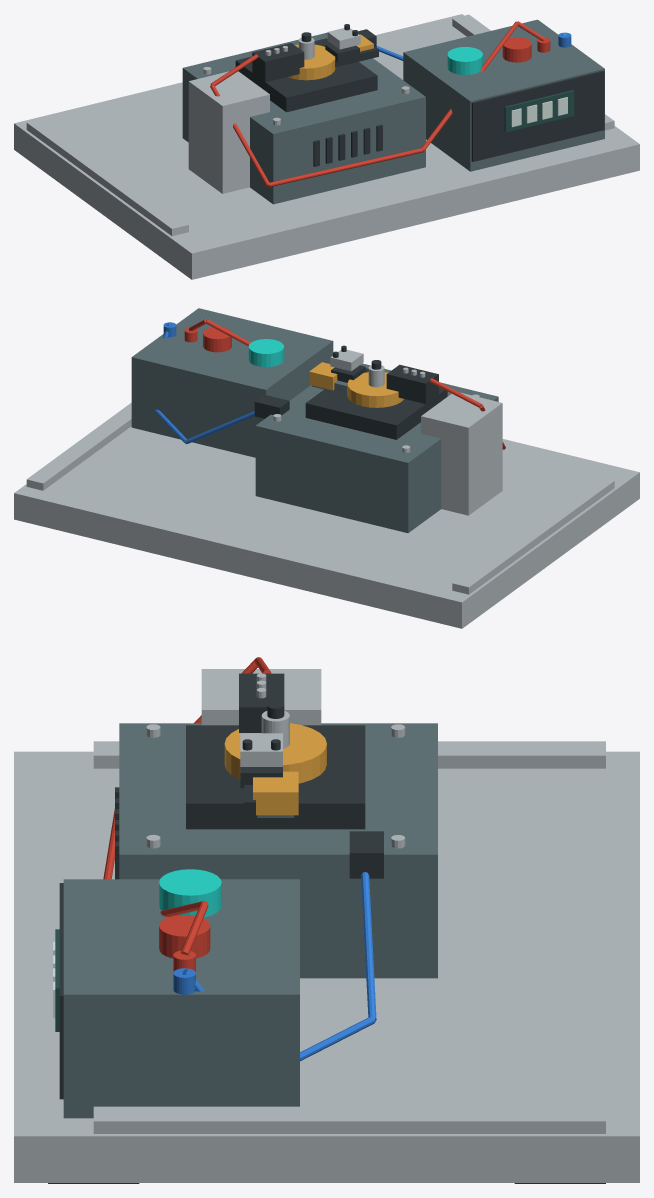
The model's file is cyclic-bend.glb.
3 renders of one model, top to bottom at view 1: azimuth 30°, elevation 25°; view 2: azimuth 150°, elevation 25°; view 3: azimuth 270°, elevation 25°, orthographic. The views are drawn at different scales.
Parts seen in each view (by area): view 1: baseplate, motor_enclosure, continuity_controller, grip_support, controller_face, side_mount_rail, gearhead, fixed_grip, cycle_counter, encoder_collar, jog_input, fixed_lead_2 (+6 smaller); view 2: baseplate, motor_enclosure, continuity_controller, grip_support, gearhead, side_mount_rail, side_mount_rail.001, fixed_grip, encoder_collar, jog_input, lead_strain_relief, stop_visual (+2 smaller); view 3: baseplate, continuity_controller, motor_enclosure, side_mount_rail.001, gearhead, side_mount_rail, grip_support, encoder_collar, jog_input, fixed_grip, load_sensor_proxy, stop_visual (+4 smaller).
Boxes of the visible parts, <box> form: baseplate: <box>14,14,639,279</box>; motor_enclosure: <box>182,32,425,204</box>; continuity_controller: <box>403,19,604,171</box>; grip_support: <box>188,71,269,193</box>; controller_face: <box>471,70,604,161</box>; side_mount_rail: <box>26,118,188,236</box>; gearhead: <box>235,38,377,112</box>; fixed_grip: <box>252,43,304,82</box>; cycle_counter: <box>504,90,574,132</box>; encoder_collar: <box>287,44,335,80</box>; jog_input: <box>447,47,482,74</box>; fixed_lead_2: <box>268,148,423,187</box>; baseplate: <box>14,426,639,628</box>; motor_enclosure: <box>255,363,498,532</box>; continuity_controller: <box>131,308,333,457</box>; grip_support: <box>421,392,502,515</box>; gearhead: <box>305,368,447,439</box>; side_mount_rail: <box>452,477,614,594</box>; side_mount_rail.001: <box>26,402,131,490</box>; fixed_grip: <box>386,364,438,403</box>; encoder_collar: <box>347,372,403,407</box>; jog_input: <box>248,339,284,367</box>; lead_strain_relief: <box>254,394,289,418</box>; stop_visual: <box>203,327,231,352</box>; baseplate: <box>14,751,639,1182</box>; continuity_controller: <box>63,879,299,1118</box>; motor_enclosure: <box>119,723,437,978</box>; side_mount_rail.001: <box>93,1106,605,1133</box>; gearhead: <box>186,725,365,829</box>; side_mount_rail: <box>93,741,605,768</box>; grip_support: <box>201,669,321,725</box>; encoder_collar: <box>224,723,326,783</box>; jog_input: <box>159,869,221,917</box>; fixed_grip: <box>239,673,284,732</box>; load_sensor_proxy: <box>253,771,298,815</box>; stop_visual: <box>159,915,210,958</box>.
Bounding box in the file's own units: 0.32 × 0.105 × 0.22.
